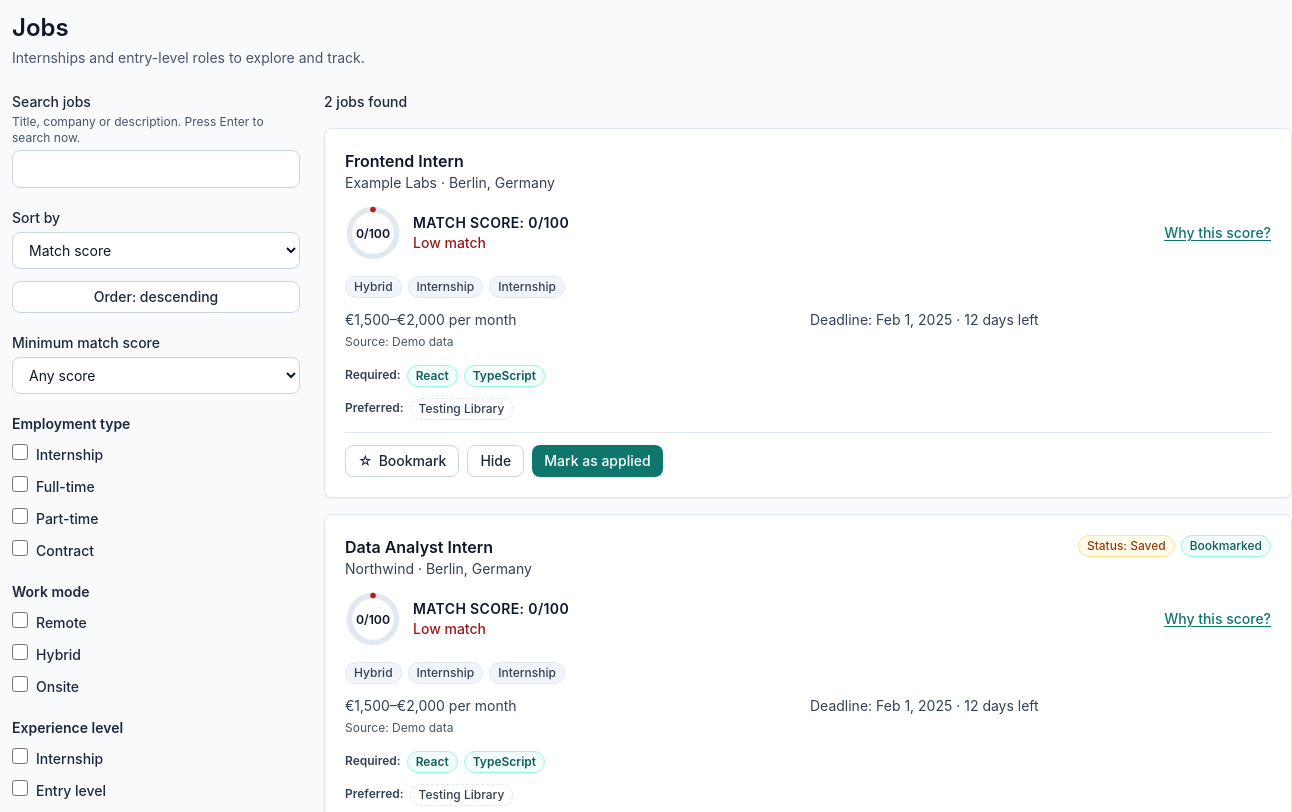
Test case: JobsPage › hides the job and explains how to see it again when Hide is clicked
Expected: the element "Frontend Intern" is shown, [324,128,1291,498]
Click the button "Hide".
click(496, 461)  # box [467,445,524,477]
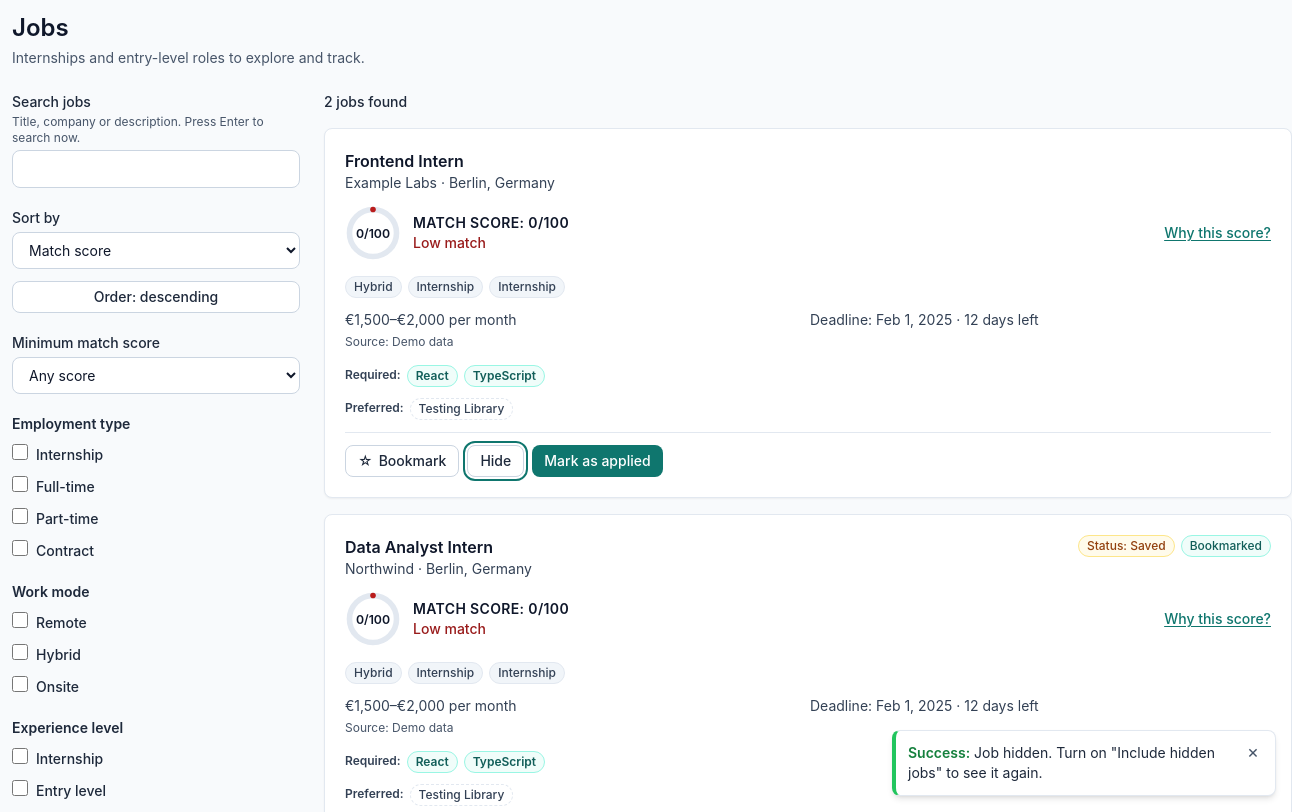
Result: the text "Job hidden. Turn on \"Include hidden jobs\" to see it again." is shown at [908,744,1215,781]
